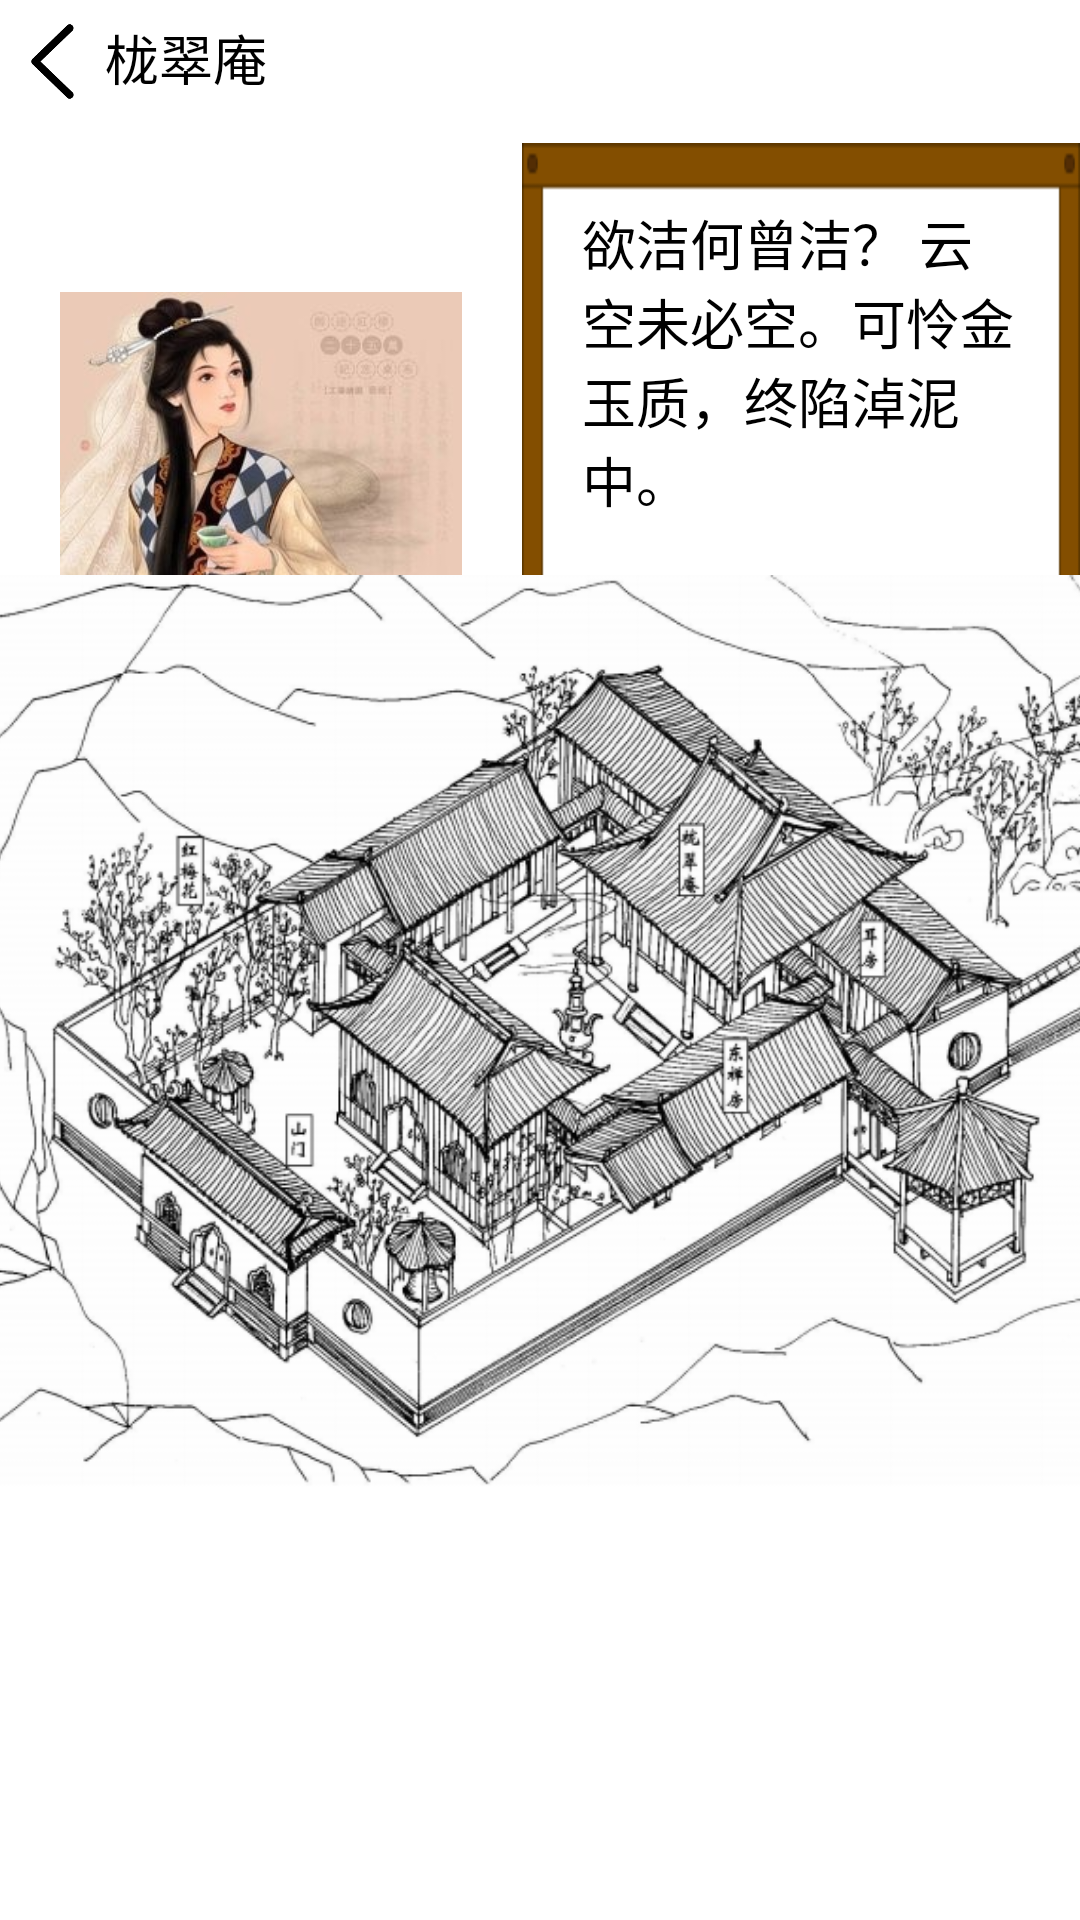

Screen size 1080w x 1920h. Icon name, then its center in pixels as [x,y]:
returnbutton: [52,61]
